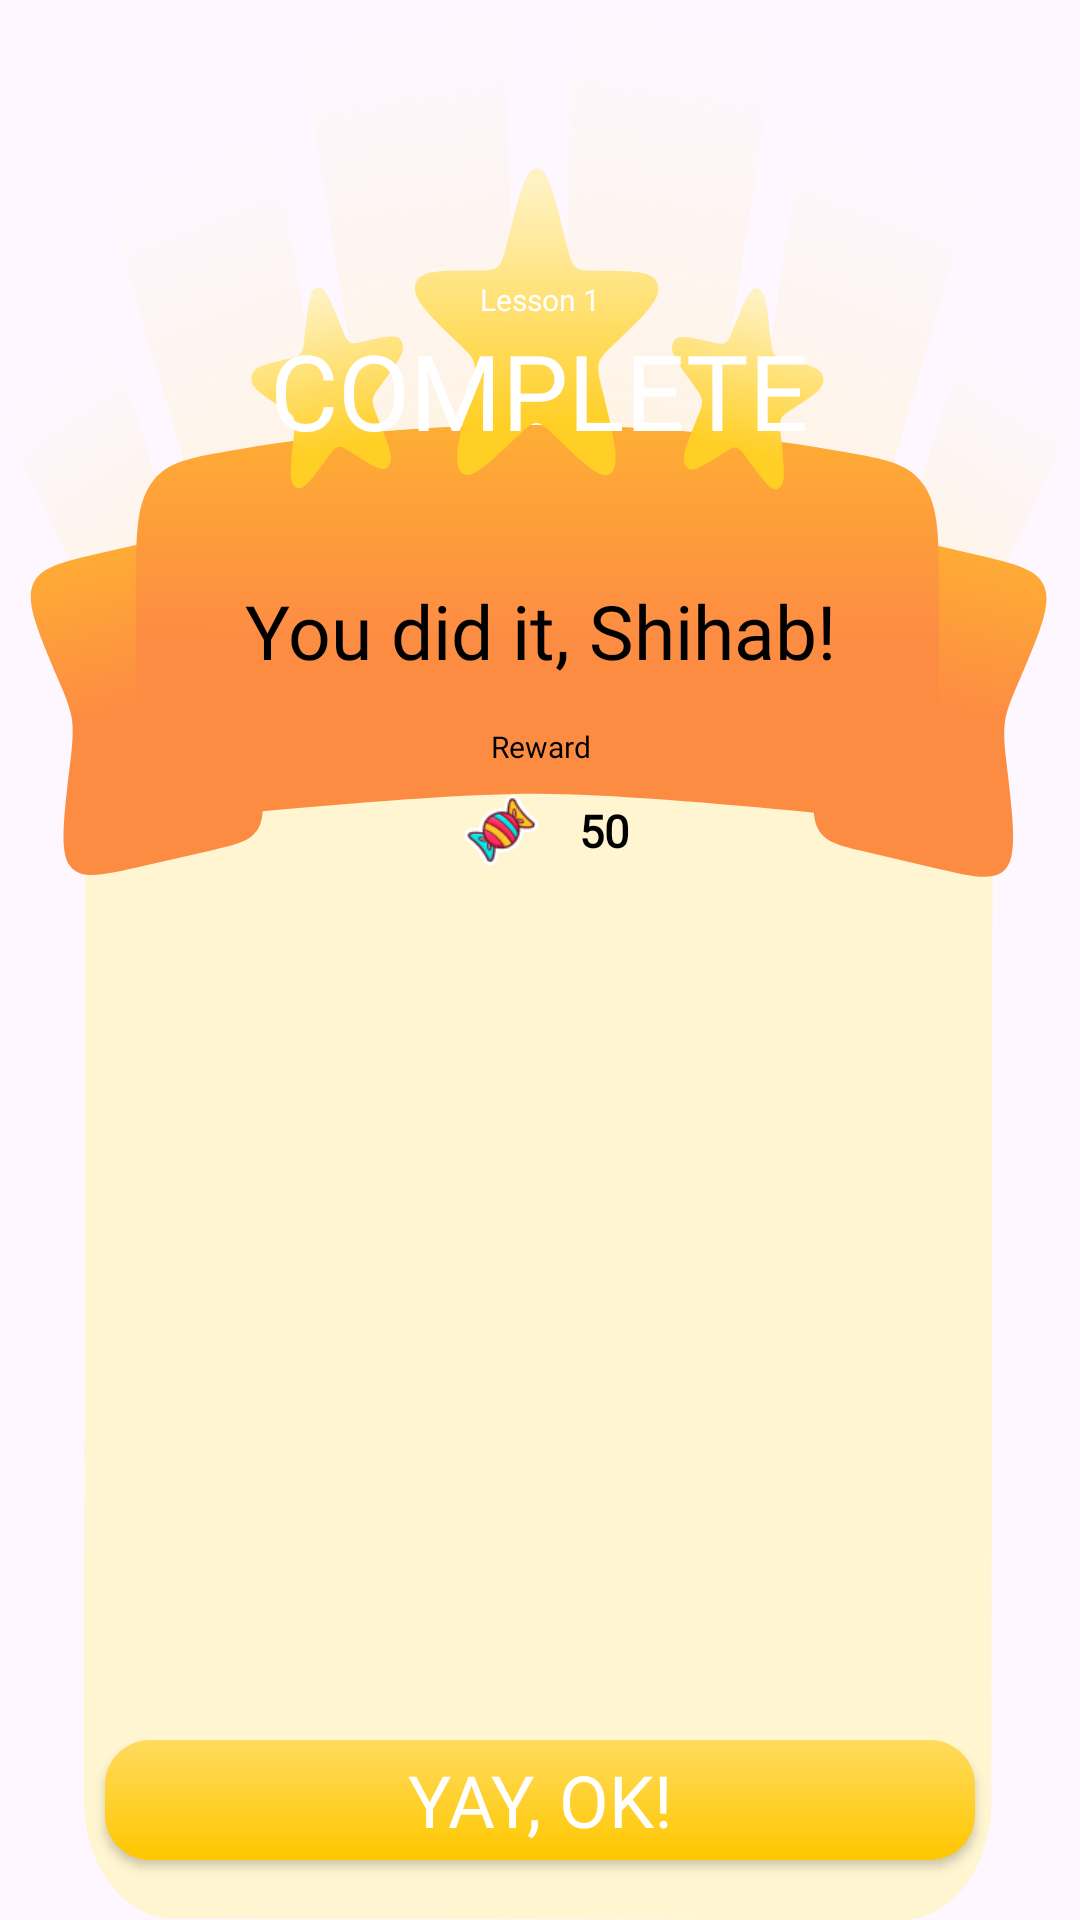

Icons on this 1080*1920 Android screen, each with the point to tap as (x=x, y=y):
candy: (x=501, y=830)
